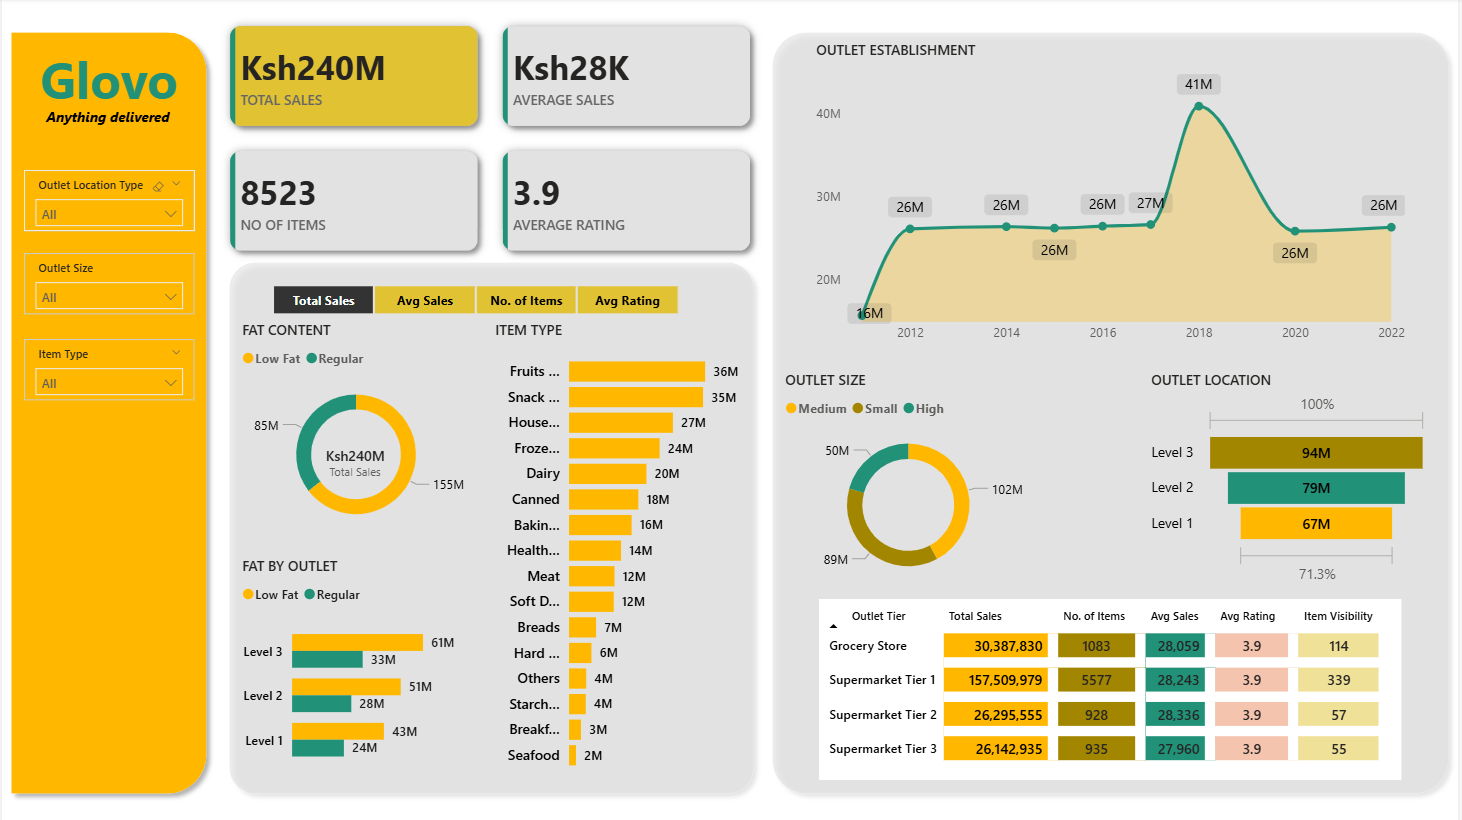

The page's visual inventory and layout, read from the dashboard file:
{"tool":"powerbi","page":{"name":"Page 1","canvas":[1400,800],"ordinal":0},"visuals":[{"type":"shape","box":[0,24.4,205.6,750],"z":0},{"type":"textbox","box":[8.9,40,188.9,86.7],"z":1000},{"type":"textbox","box":[33.3,100,140,26.7],"z":2000},{"type":"cardVisual","title":"asdsa","fields":{"Data":["Glovo Grocery Data.Total Sales","Glovo Grocery Data.Avg Sales","Glovo Grocery Data.No. of Items","Glovo Grocery Data.Avg Rating"]},"box":[192.2,0,555.6,270],"z":3000},{"type":"shape","box":[210,245.6,522.2,528.9],"z":4000},{"type":"slicer","fields":{"Values":["Metrics.Metrics"]},"box":[235.6,270,437.8,40],"z":5000},{"type":"donutChart","title":"FAT CONTENT","fields":{"Y":["Glovo Grocery Data.Total Sales"],"Category":["Glovo Grocery Data.Item Fat Content"]},"box":[225.6,310,228.9,213.3],"z":6000},{"type":"cardVisual","fields":{"Data":["Glovo Grocery Data.Total Sales"]},"box":[273.3,400,133.3,93.3],"z":7000},{"type":"clusteredBarChart","title":"FAT BY OUTLET","fields":{"Y":["Glovo Grocery Data.Total Sales"],"Category":["Glovo Grocery Data.Outlet Location Type"],"Series":["Glovo Grocery Data.Item Fat Content"]},"box":[225.6,536.7,228.9,216.7],"z":8000},{"type":"barChart","title":"ITEM TYPE","fields":{"Y":["Glovo Grocery Data.Total Sales"],"Category":["Glovo Grocery Data.Item Type"]},"box":[468.9,310,253.3,443.3],"z":9000},{"type":"shape","box":[732,24,668,750],"z":10000},{"type":"lineChart","title":"OUTLET ESTABLISHMENT","fields":{"Y":["Glovo Grocery Data.Total Sales"],"Category":["Glovo Grocery Data.Outlet Establishment Year"]},"box":[778,40,576,300],"z":11000},{"type":"donutChart","title":"OUTLET SIZE","fields":{"Y":["Glovo Grocery Data.Total Sales"],"Category":["Glovo Grocery Data.Outlet Size","Glovo Grocery Data.Item Fat Content"]},"box":[747.8,357.8,246.7,214.4],"z":12000},{"type":"funnel","title":"OUTLET LOCATION","fields":{"Y":["Sum(Glovo Grocery Data.Sales)"],"Category":["Glovo Grocery Data.Outlet Location Type"]},"box":[1100,358,276,210],"z":13000},{"type":"pivotTable","fields":{"Rows":["Glovo Grocery Data.Outlet Tier"],"Values":["Glovo Grocery Data.Total Sales","Glovo Grocery Data.No. of Items","Glovo Grocery Data.Avg Sales","Glovo Grocery Data.Avg Rating","Sum(Glovo Grocery Data.Item Visibility)"]},"box":[786,578,560,174],"z":14000},{"type":"slicer","fields":{"Values":["Glovo Grocery Data.Outlet Location Type"]},"box":[21.1,165.6,164.4,58.9],"z":15000},{"type":"slicer","fields":{"Values":["Glovo Grocery Data.Outlet Size"]},"box":[21.1,245.6,164.4,58.9],"z":15001},{"type":"slicer","fields":{"Values":["Glovo Grocery Data.Item Type"]},"box":[21.1,327.8,164.4,58.9],"z":15002}]}

Visuals, with their boxes in screenshot pixels (x1, y1, x2, y2), scaled from the page's 1400x800 canvas onto the 1462x820 screenshot:
shape: x1=0 y1=25 x2=215 y2=794
textbox: x1=9 y1=41 x2=207 y2=130
textbox: x1=35 y1=102 x2=181 y2=130
"asdsa" cardVisual: x1=201 y1=0 x2=781 y2=277
shape: x1=219 y1=252 x2=765 y2=794
slicer - Metrics.Metrics: x1=246 y1=277 x2=703 y2=318
"FAT CONTENT" donutChart: x1=236 y1=318 x2=475 y2=536
cardVisual - Glovo Grocery Data.Total Sales: x1=285 y1=410 x2=425 y2=506
"FAT BY OUTLET" clusteredBarChart: x1=236 y1=550 x2=475 y2=772
"ITEM TYPE" barChart: x1=490 y1=318 x2=754 y2=772
shape: x1=764 y1=25 x2=1461 y2=793
"OUTLET ESTABLISHMENT" lineChart: x1=812 y1=41 x2=1414 y2=348
"OUTLET SIZE" donutChart: x1=781 y1=367 x2=1039 y2=587
"OUTLET LOCATION" funnel: x1=1149 y1=367 x2=1437 y2=582
pivotTable - Glovo Grocery Data.Outlet Tier x Glovo Grocery Data.Total Sales: x1=821 y1=592 x2=1406 y2=771
slicer - Glovo Grocery Data.Outlet Location Type: x1=22 y1=170 x2=194 y2=230
slicer - Glovo Grocery Data.Outlet Size: x1=22 y1=252 x2=194 y2=312
slicer - Glovo Grocery Data.Item Type: x1=22 y1=336 x2=194 y2=396
